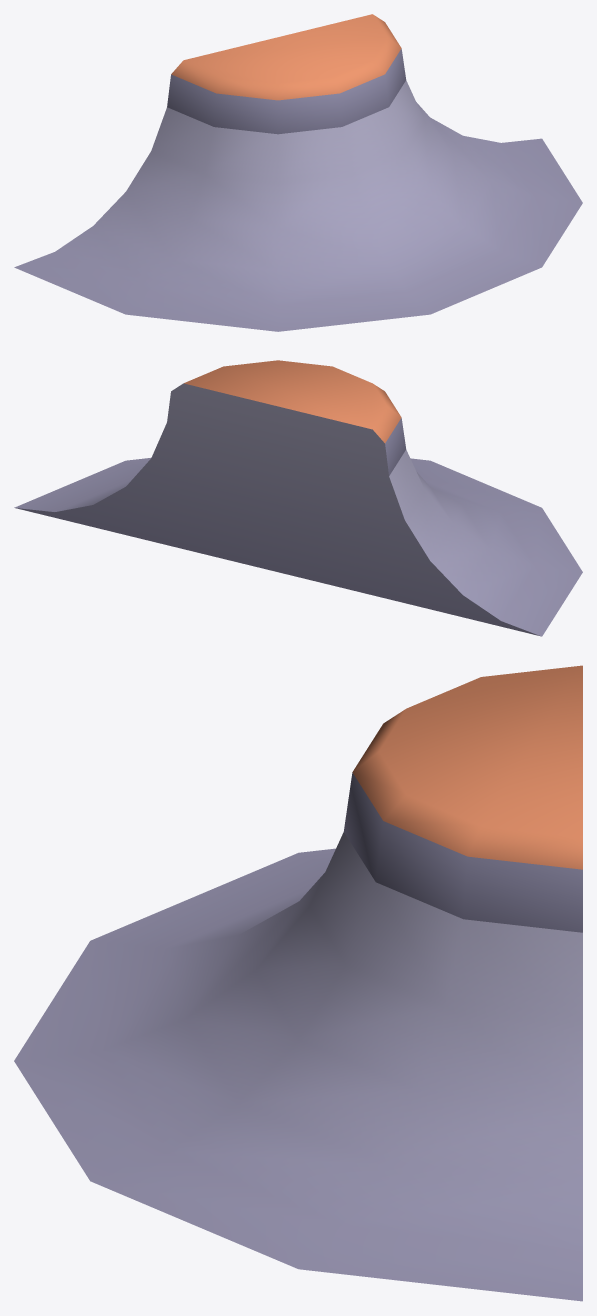
Rendered from mini-skate--obstacle-end.glb.
3 views of the same model, one above another, from view 1: azimuth 30°, elevation 25°; view 2: azimuth 150°, elevation 25°; view 3: azimuth 270°, elevation 25° (orthographic). The views are drawn at different scales.
Visible parts, largest first — view 1: obstacle-end; view 2: obstacle-end; view 3: obstacle-end.
Part boxes in pixels (x1,y1,x2,y2): obstacle-end: (14,14,582,331); obstacle-end: (14,360,582,636); obstacle-end: (14,665,582,1301).
Size of the model in its own units: 1 by 0.3 by 0.5.
1 material, 1 textured.
